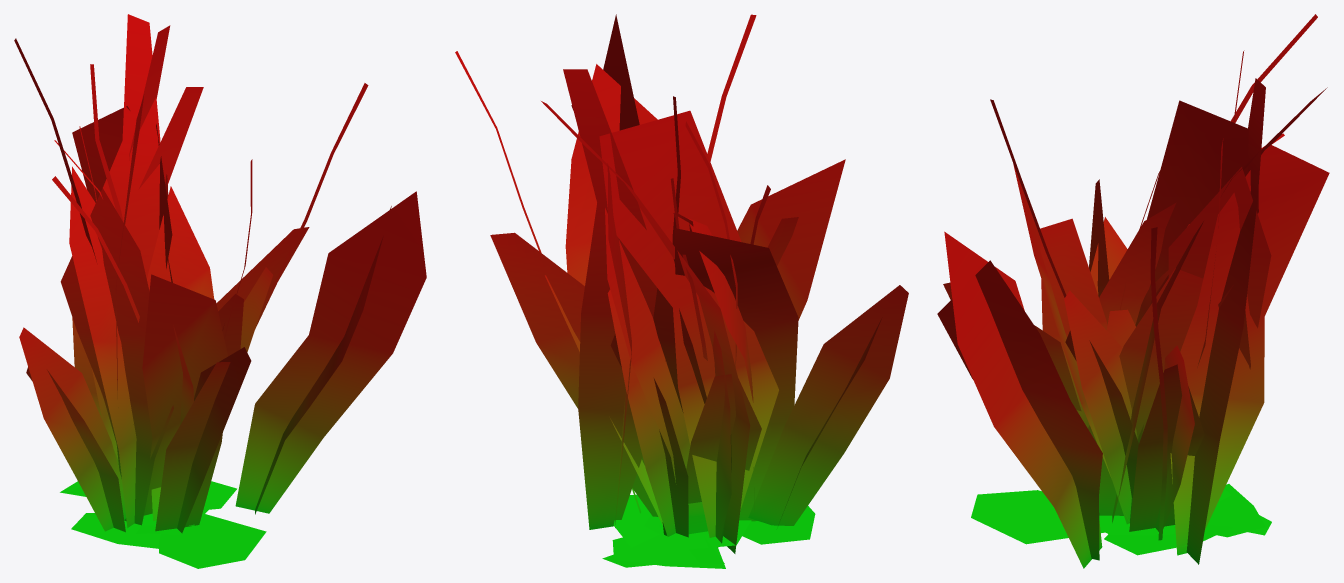
The model's file is Var13_LOD1.fbx.
3 renders of one model, left to right at view 1: azimuth 30°, elevation 25°; view 2: azimuth 150°, elevation 25°; view 3: azimuth 270°, elevation 25°, orthographic. The views are drawn at different scales.
Parts seen in each view (by area): view 1: _01d2_Var13_LOD1; view 2: _01d2_Var13_LOD1; view 3: _01d2_Var13_LOD1.
Boxes of the visible parts, box(x1,y1,x2,y2) form: _01d2_Var13_LOD1: box(14, 14, 426, 568); _01d2_Var13_LOD1: box(455, 14, 908, 568); _01d2_Var13_LOD1: box(937, 14, 1329, 568).
Bounding box in the file's own units: 11.57 × 12.98 × 9.58.
